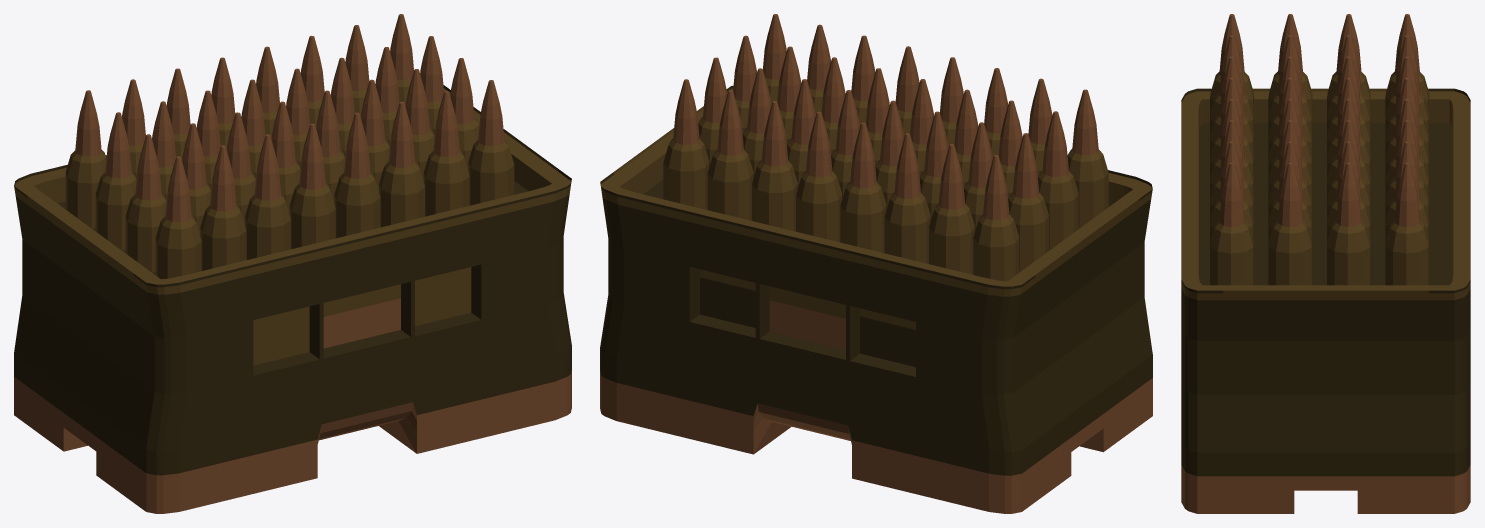
The model's file is MachineGunAmmo.glb.
3 renders of one model, left to right at view 1: azimuth 30°, elevation 25°; view 2: azimuth 150°, elevation 25°; view 3: azimuth 270°, elevation 25°, orthographic. The views are drawn at different scales.
Parts seen in each view (by area): view 1: Cube.002; view 2: Cube.002; view 3: Cube.002.
Part boxes in pixels (x1=…): Cube.002: x1=14, y1=14, x2=571, y2=513; Cube.002: x1=600, y1=14, x2=1152, y2=513; Cube.002: x1=1181, y1=14, x2=1470, y2=513.
Size of the model in its own units: 0.5435 by 0.4018 by 0.3288.
1 material, 1 textured.
